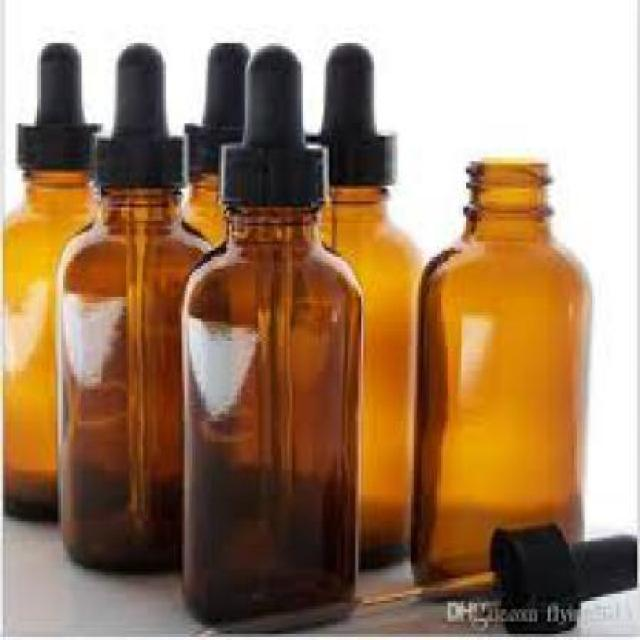kaca: (177, 202, 358, 630), (409, 157, 583, 585), (55, 186, 208, 569), (318, 186, 417, 569), (0, 168, 92, 514), (352, 566, 506, 616), (180, 175, 225, 257)
